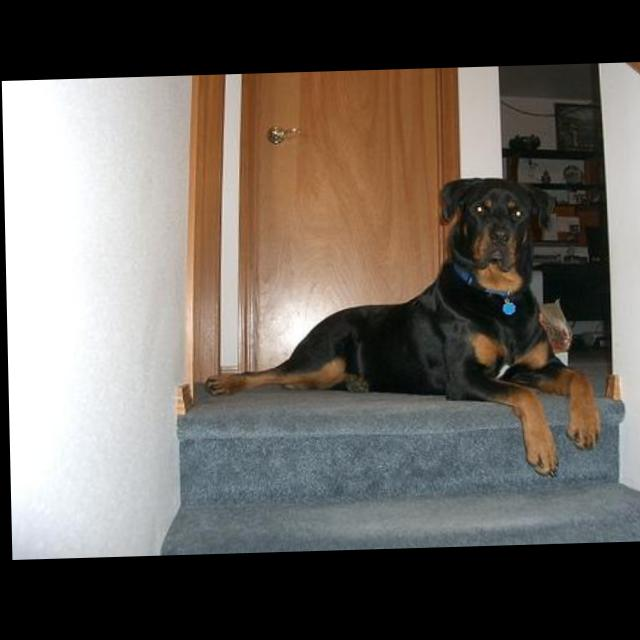rottweiler: (199, 176, 605, 488)
